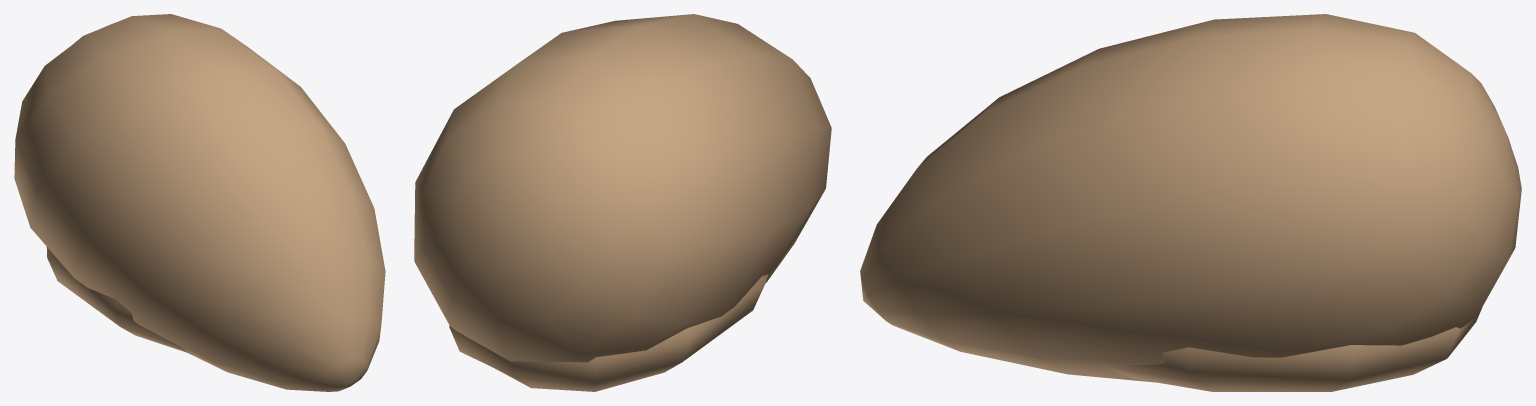
File: muzzle-beak-round.glb
3 renders of one model, left to right at view 1: azimuth 30°, elevation 25°; view 2: azimuth 150°, elevation 25°; view 3: azimuth 270°, elevation 25°, orthographic. The views are drawn at different scales.
Parts seen in each view (by area): view 1: muzzle-beak-round; view 2: muzzle-beak-round; view 3: muzzle-beak-round.
Part boxes in pixels (bbox=[...]): muzzle-beak-round: bbox=[14, 14, 385, 391]; muzzle-beak-round: bbox=[414, 14, 831, 391]; muzzle-beak-round: bbox=[860, 14, 1521, 391].
Bounding box in the file's own units: 0.0875 × 0.0898 × 0.1582.
